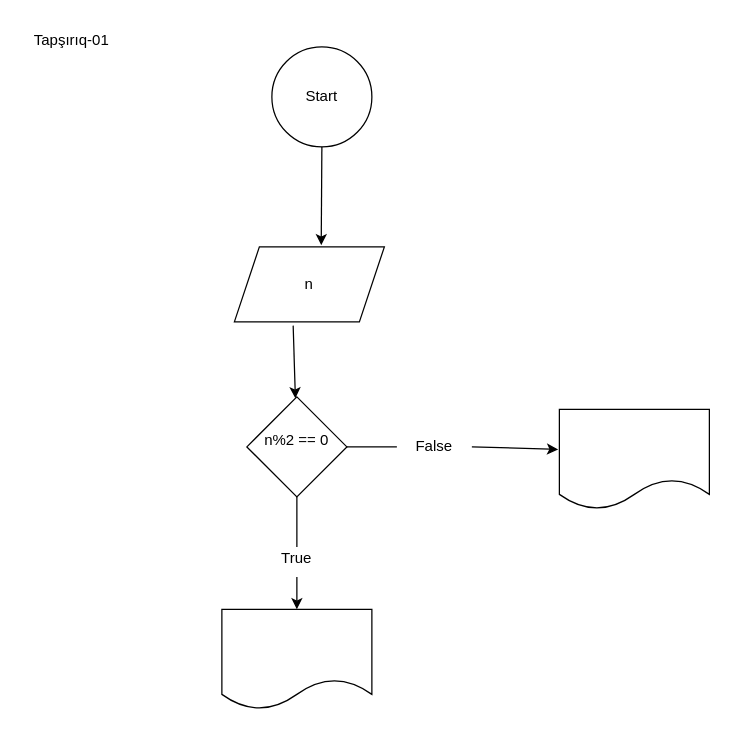
Some shapes in this 731 by 731 pixel diagram are drawn without their labels. Here are the shapes that lost their labels. From the top down, the centre of each, then its label:
the point at 633,458: n ədədi təkdir
the point at 296,658: n ədədi cütdür
